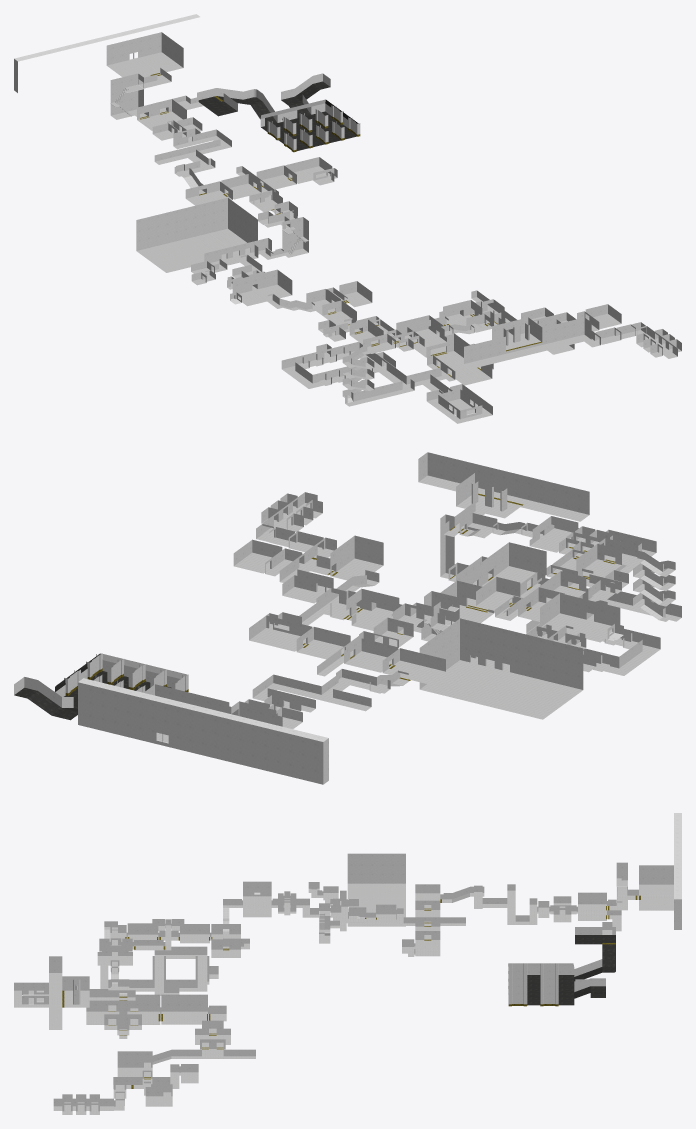
Rendered from lethal_ape_map.glb.
The picture shows the model from 3 angles, top to bottom: view 1: azimuth 30°, elevation 25°; view 2: azimuth 150°, elevation 25°; view 3: azimuth 270°, elevation 25°; orthographic projection. The views are drawn at different scales.
Parts seen in each view (by area): view 1: SubMesh_28.003, SubMesh_32.003, SubMesh_29.003, SubMesh_38.003, SubMesh_33.003, SubMesh_39.003, SubMesh_36.003; view 2: SubMesh_28.003, SubMesh_32.003, SubMesh_29.003, SubMesh_38.003, SubMesh_39.003, SubMesh_33.003, SubMesh_36.003; view 3: SubMesh_28.003, SubMesh_29.003, SubMesh_32.003, SubMesh_33.003, SubMesh_38.003, SubMesh_39.003, SubMesh_36.003.
Part boxes in pixels (x1=…): SubMesh_28.003: x1=258, y1=201, x2=681, y2=419; SubMesh_32.003: x1=14, y1=14, x2=360, y2=210; SubMesh_29.003: x1=258, y1=210, x2=681, y2=423; SubMesh_38.003: x1=136, y1=198, x2=311, y2=309; SubMesh_33.003: x1=107, y1=52, x2=336, y2=212; SubMesh_39.003: x1=136, y1=228, x2=314, y2=312; SubMesh_36.003: x1=198, y1=81, x2=358, y2=150; SubMesh_28.003: x1=233, y1=452, x2=681, y2=669; SubMesh_32.003: x1=14, y1=612, x2=445, y2=784; SubMesh_29.003: x1=234, y1=475, x2=681, y2=675; SubMesh_38.003: x1=419, y1=591, x2=623, y2=689; SubMesh_39.003: x1=420, y1=613, x2=612, y2=719; SubMesh_33.003: x1=157, y1=624, x2=445, y2=742; SubMesh_36.003: x1=14, y1=654, x2=171, y2=720; SubMesh_28.003: x1=14, y1=899, x2=370, y2=1111; SubMesh_29.003: x1=14, y1=906, x2=370, y2=1114; SubMesh_32.003: x1=371, y1=813, x2=681, y2=1004; SubMesh_33.003: x1=371, y1=884, x2=673, y2=956; SubMesh_38.003: x1=223, y1=853, x2=405, y2=933; SubMesh_39.003: x1=223, y1=883, x2=405, y2=943; SubMesh_36.003: x1=527, y1=935, x2=615, y2=1005.
Size of the model in its own units: 135 by 49.89 by 219.
Materials: 5 (5 with a texture image).
